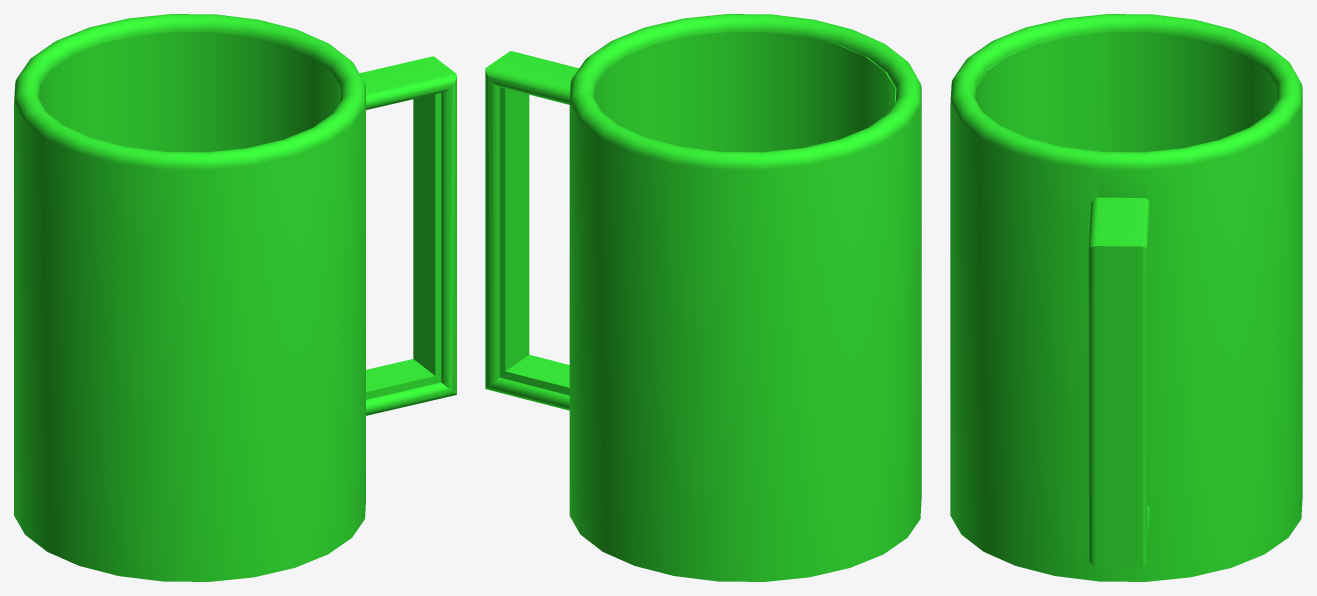
Rendered from cup.dae.
3 renders of one model, left to right at view 1: azimuth 30°, elevation 25°; view 2: azimuth 150°, elevation 25°; view 3: azimuth 270°, elevation 25°, orthographic.
Parts seen in each view (by area): view 1: SketchUp; view 2: SketchUp; view 3: SketchUp.
Boxes of the visible parts, bbox=[...] form: SketchUp: bbox=[14, 14, 456, 581]; SketchUp: bbox=[485, 14, 921, 581]; SketchUp: bbox=[950, 14, 1302, 581].
Bounding box in the file's own units: 3.55 × 2.68 × 3.55.
